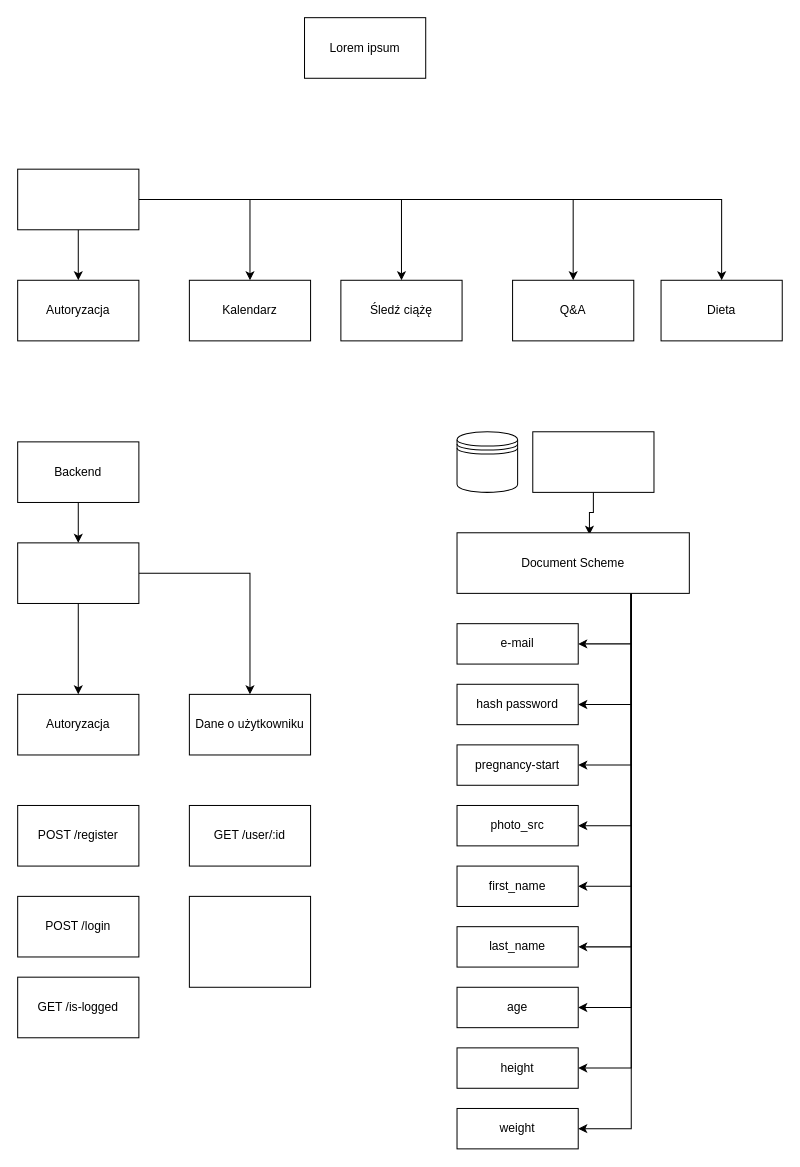
The diagram is 800 pixels wide and 1167 high, and some of its shapes have lost their labels. Here are the shapes that lost their labels. From the top down, the box of each, then its label:
(17, 168, 139, 230): Sekcje
(532, 431, 654, 492): MongoDB
(17, 542, 139, 603): Endpoints
(188, 895, 311, 987): PUT /user/:id w body obiekt z kluczami i wartosciami elementow do zmiany
